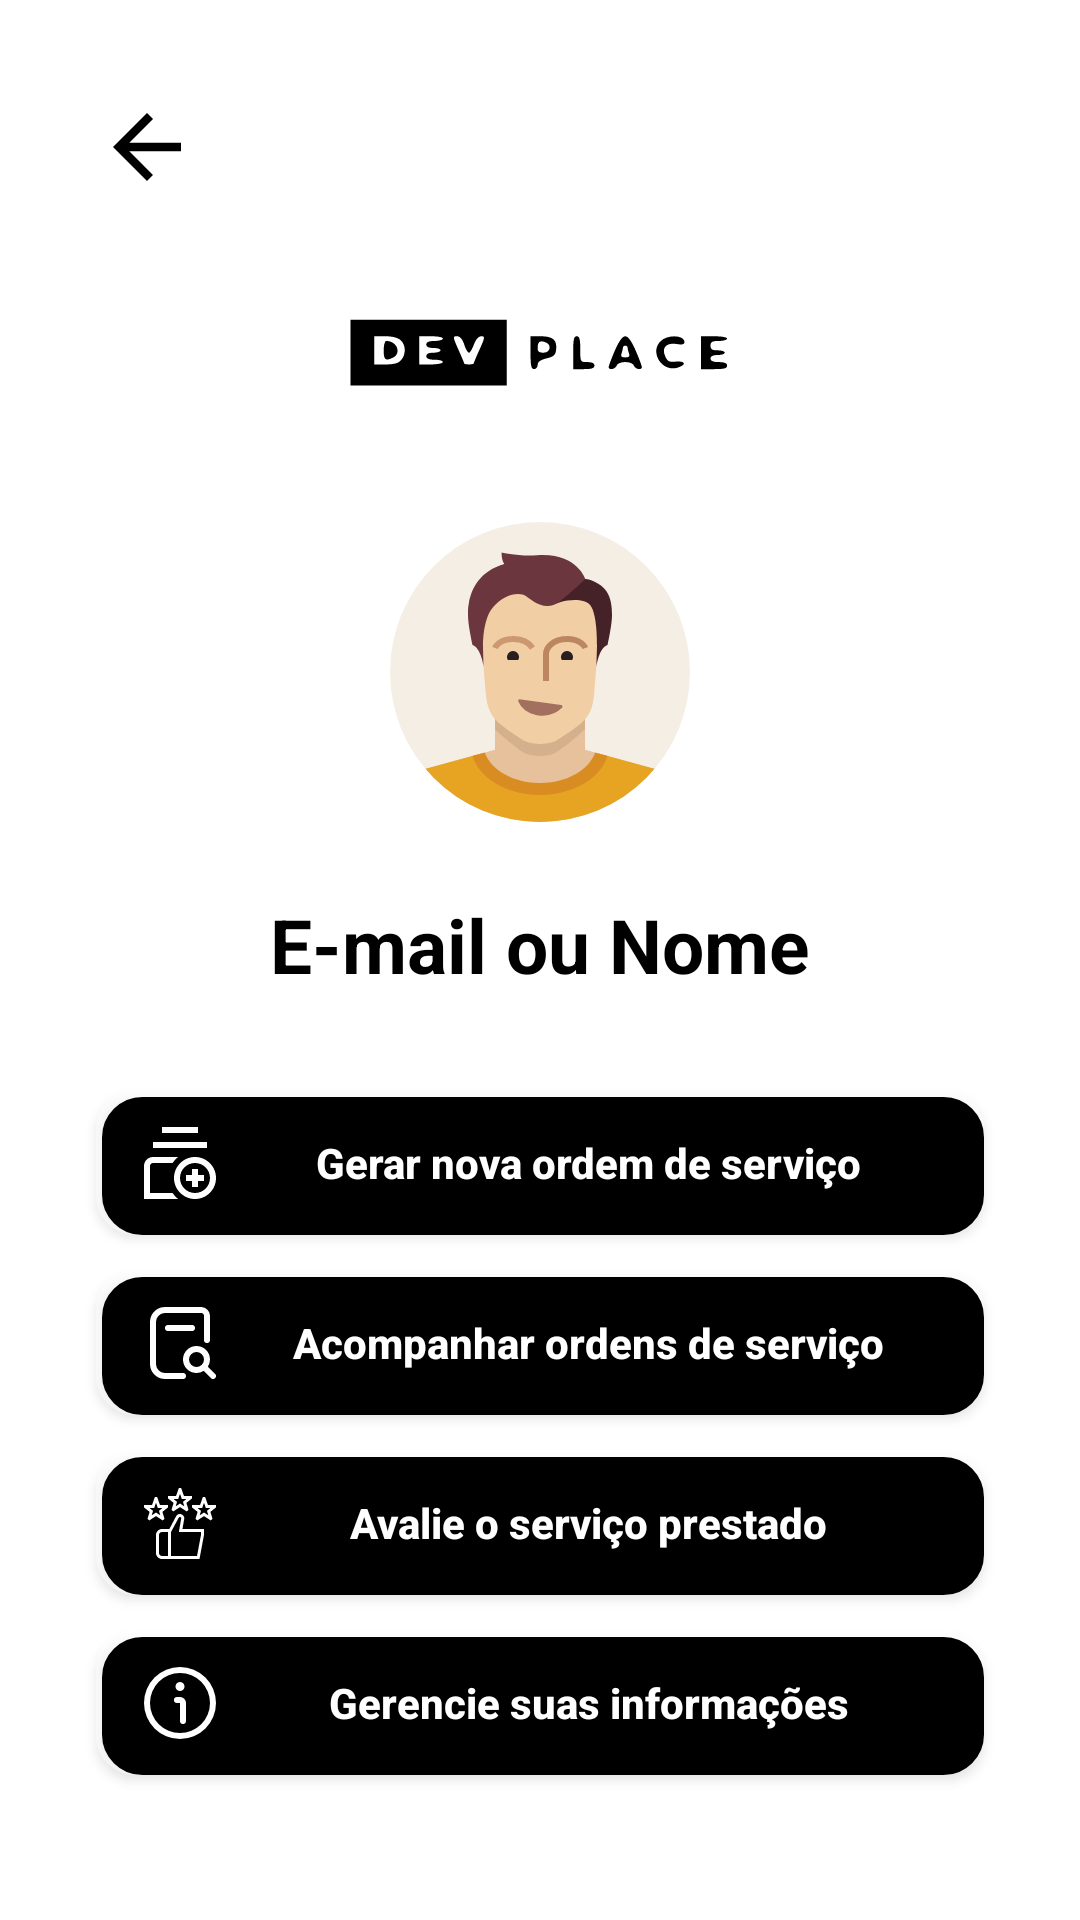

Where to tap for icons on this 1080x1920 app screen, as point (x, y):
male man: point (540, 672)
voltar nav: point (147, 147)
